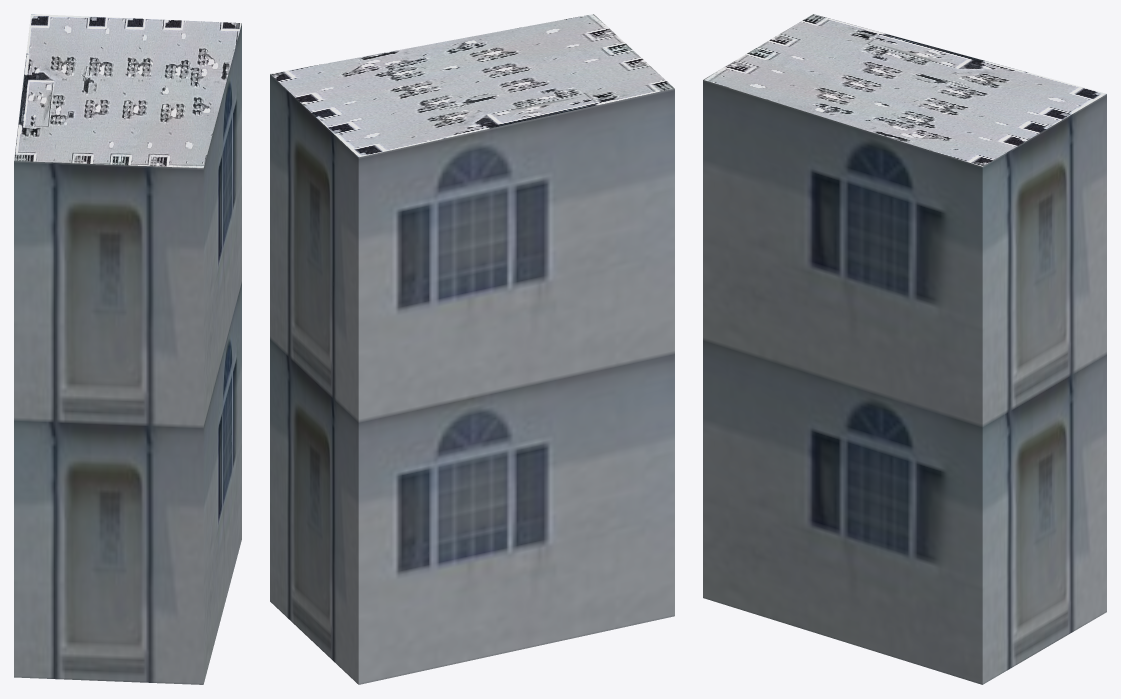
The model's file is ResTex__4699.fbx.
The picture shows the model from 3 angles, left to right: view 1: azimuth 30°, elevation 25°; view 2: azimuth 150°, elevation 25°; view 3: azimuth 270°, elevation 25°; orthographic projection. The views are drawn at different scales.
Visible parts, largest first — view 1: CityEngineMaterial_17_m, CityEngineMaterial_8_m; view 2: CityEngineMaterial_17_m, CityEngineMaterial_8_m; view 3: CityEngineMaterial_17_m, CityEngineMaterial_8_m.
Part boxes in pixels (x1,y1,x2,y2): CityEngineMaterial_17_m: (14,23,241,684); CityEngineMaterial_8_m: (14,14,241,168); CityEngineMaterial_17_m: (270,74,674,684); CityEngineMaterial_8_m: (270,14,674,157); CityEngineMaterial_17_m: (703,80,1106,684); CityEngineMaterial_8_m: (703,14,1106,166).
Bounding box in the file's own units: 3.79 × 6 × 4.24.
Materials: 2 (2 with a texture image).
